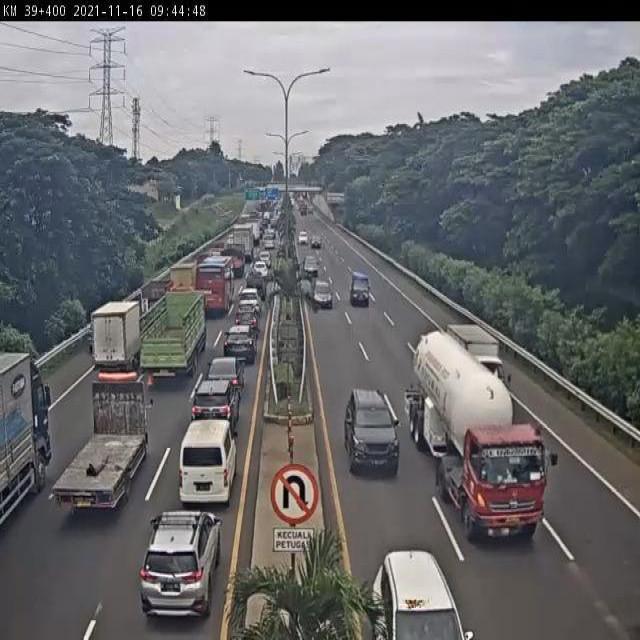big bus: (194, 253, 234, 316)
car: (136, 515, 221, 624), (342, 383, 403, 473), (188, 382, 236, 447), (205, 355, 246, 396), (223, 327, 255, 365), (348, 270, 370, 306), (232, 308, 259, 335), (312, 276, 332, 311), (236, 288, 261, 316)
small bus: (177, 422, 237, 507)
small truck: (447, 322, 514, 407), (163, 263, 196, 309)
truck-l-: (137, 295, 206, 381)
truck-m-: (56, 379, 150, 508), (90, 301, 143, 375), (140, 279, 178, 325)
truck-xl-: (408, 332, 550, 545)
